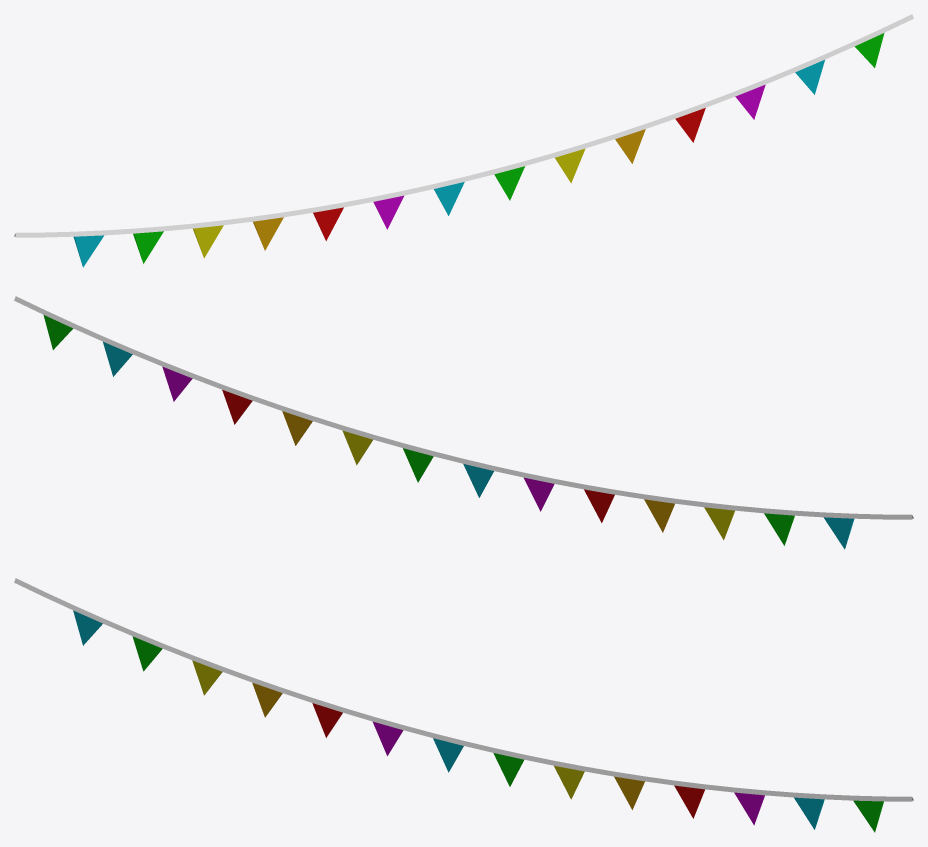
Rendered from HangingTFlag.fbx.
3 views of the same model, one above another, from view 1: azimuth 30°, elevation 25°; view 2: azimuth 150°, elevation 25°; view 3: azimuth 330°, elevation 25° (orthographic).
Parts seen in each view (by area): view 1: HangingTFlagMesh; view 2: HangingTFlagMesh; view 3: HangingTFlagMesh.
Part boxes in pixels (bbox=[...]): HangingTFlagMesh: bbox=[14, 14, 913, 267]; HangingTFlagMesh: bbox=[14, 296, 913, 549]; HangingTFlagMesh: bbox=[14, 578, 913, 832].
Size of the model in its own units: 1180 by 112 by 4.19.
